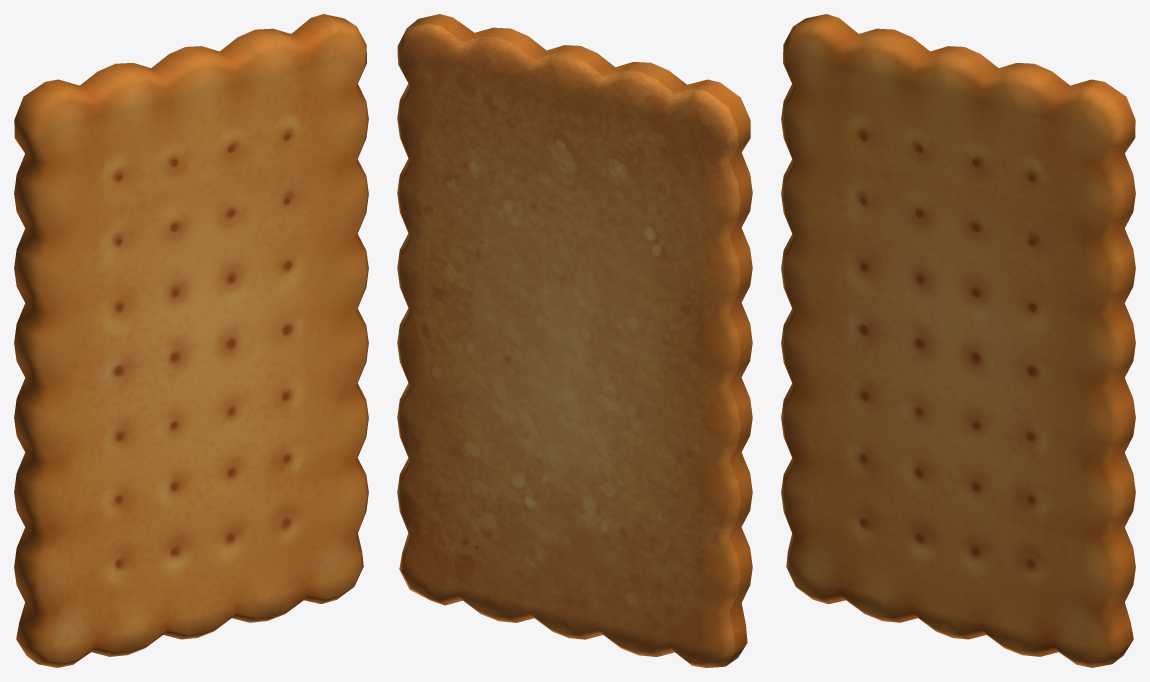
The model's file is Biscuit3 (1).fbx.
3 renders of one model, left to right at view 1: azimuth 30°, elevation 25°; view 2: azimuth 150°, elevation 25°; view 3: azimuth 330°, elevation 25°, orthographic.
Visible parts, largest first — view 1: polySurface16; view 2: polySurface16; view 3: polySurface16.
Part boxes in pixels (x1,y1,x2,y2): polySurface16: (14,14,368,667); polySurface16: (397,14,752,667); polySurface16: (781,14,1135,667).
Bounding box in the file's own units: 122 × 198 × 14.7.
Materials: 1 (1 with a texture image).
